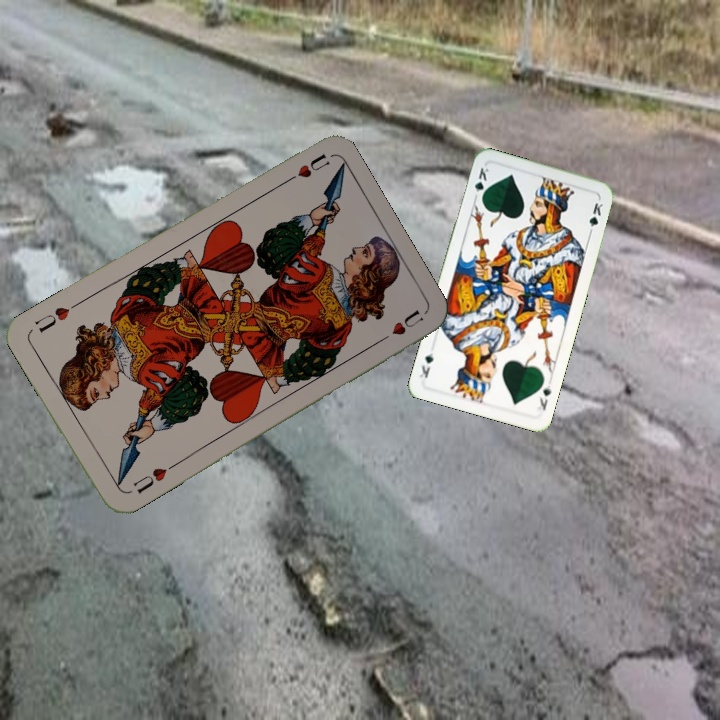GK: (470, 163, 492, 203), (533, 381, 554, 413)
HU: (278, 149, 333, 188), (128, 460, 177, 497)
